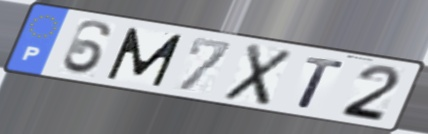2: (339, 64, 404, 125)
6: (58, 19, 115, 78)
7: (176, 35, 235, 93)
M: (103, 25, 187, 89)
T: (296, 54, 347, 111)
X: (219, 41, 296, 108)
